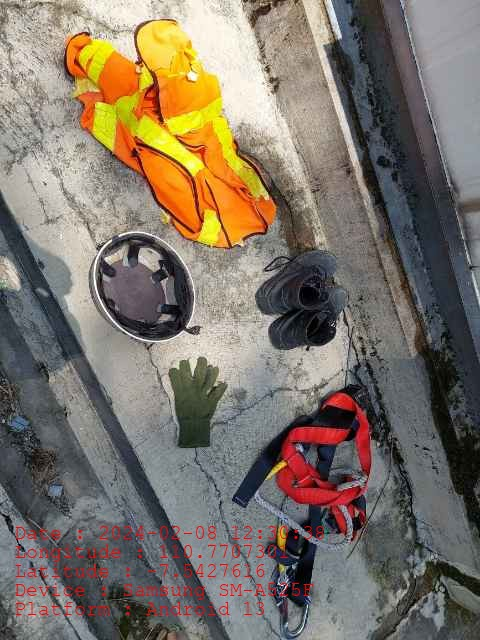ROMPI: (73, 19, 283, 242)
SARUNG_TANGAN: (166, 356, 229, 448)
SEPATU: (255, 249, 350, 352)
